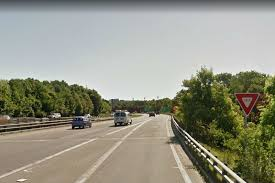yield: (234, 91, 260, 117)
